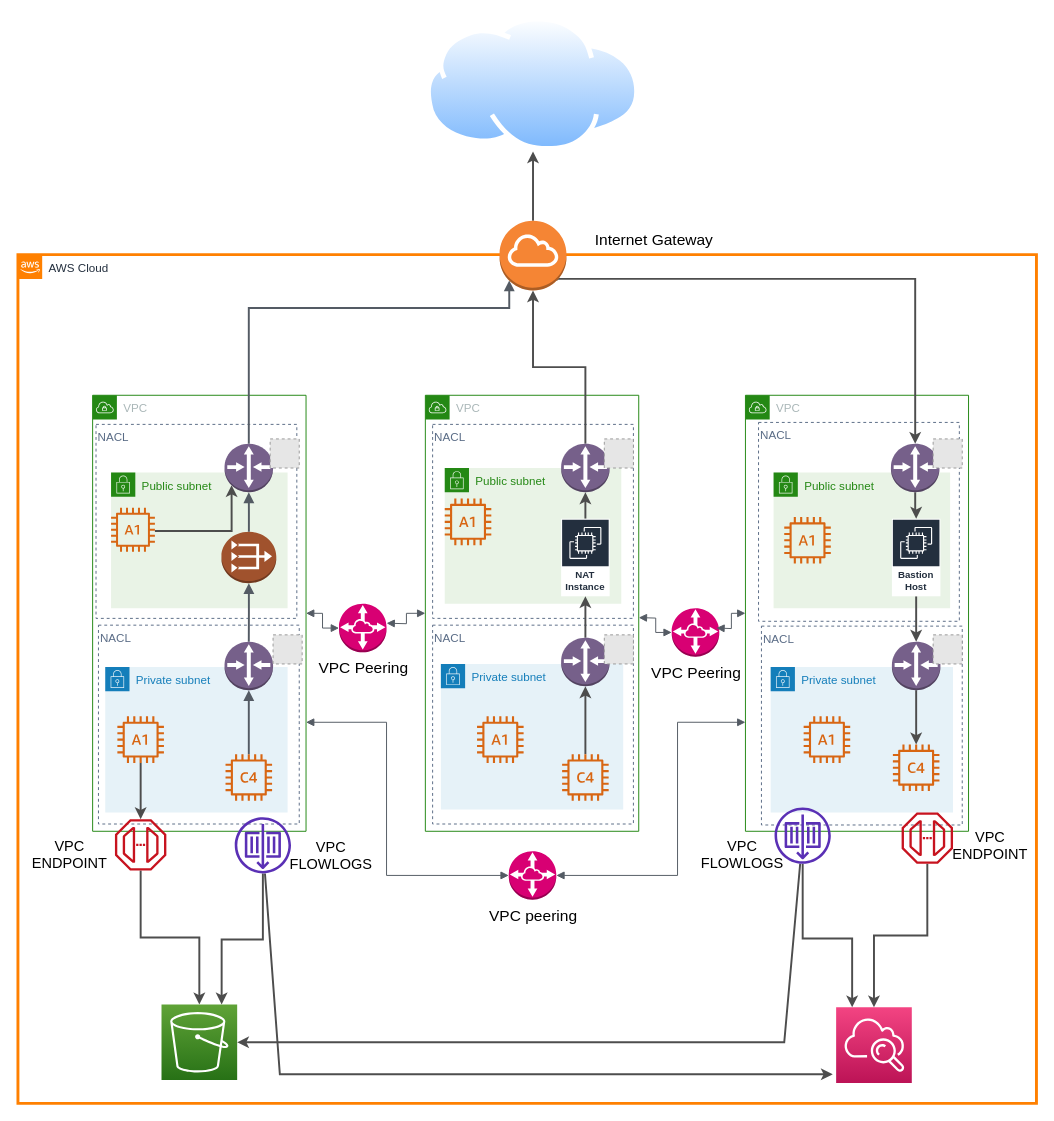
The diagram is 1054 pixels wide and 1121 high, and some of its shapes have lost their labels. Grey dashed boxes stand in for pictures. Each missing label, with the centre of its shape:
Cloud Watch: point (873, 1044)
Internet: point (532, 83)
S3: point (199, 1041)
